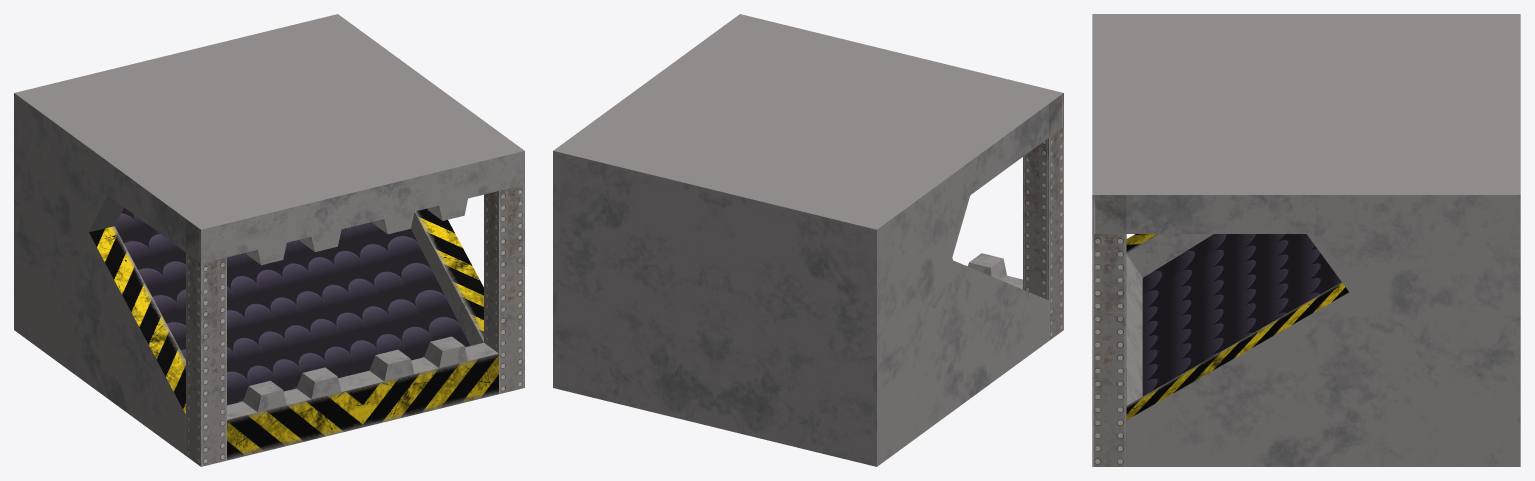
Rendered from Tower_Rostrum_01.fbx.
The picture shows the model from 3 angles, left to right: view 1: azimuth 30°, elevation 25°; view 2: azimuth 150°, elevation 25°; view 3: azimuth 270°, elevation 25°; orthographic projection. The views are drawn at different scales.
Visible parts, largest first — view 1: Tower_Rostrum_01; view 2: Tower_Rostrum_01; view 3: Tower_Rostrum_01.
Boxes of the visible parts, x1,y1,x2,y2 form: Tower_Rostrum_01: [14, 14, 524, 466]; Tower_Rostrum_01: [553, 14, 1063, 466]; Tower_Rostrum_01: [1092, 14, 1520, 466].
Bounding box in the file's own units: 2000 × 1400 × 2000.
